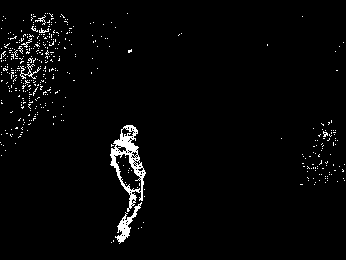person: (109, 124, 147, 244)
